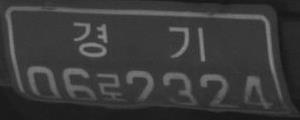0: (25, 63, 62, 101)
2: (200, 71, 240, 109), (128, 68, 161, 106)
3: (161, 70, 199, 106)
4: (242, 73, 274, 111)
6: (62, 65, 98, 103)
경기_D: (71, 20, 207, 64)
로: (98, 71, 128, 104)
